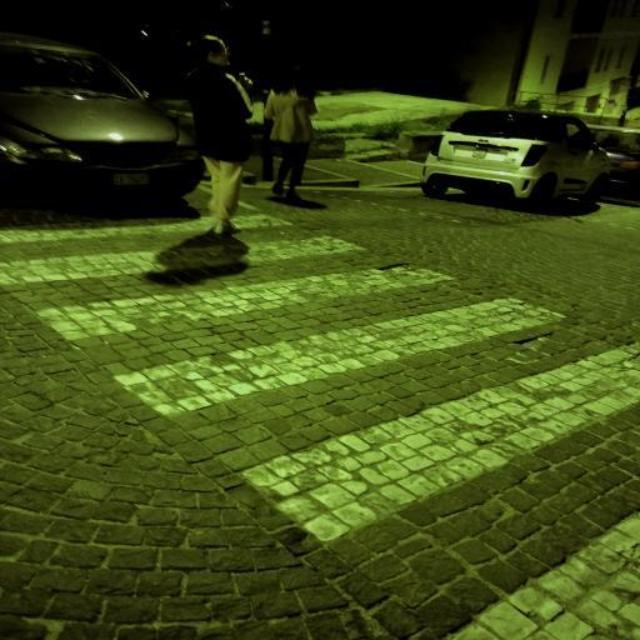sidewalk: (0, 212, 640, 639)
